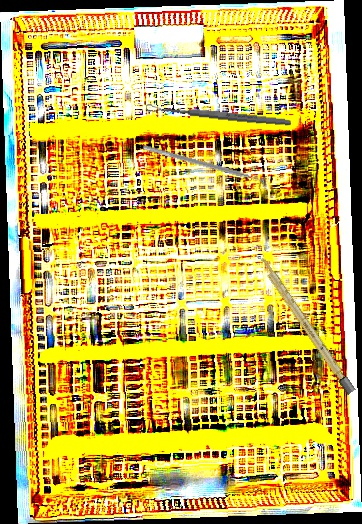Scalpel Handle: (255, 252, 356, 396)
Spatula Surgical: (140, 144, 269, 189)
Surgical Spoon: (145, 102, 292, 128)
